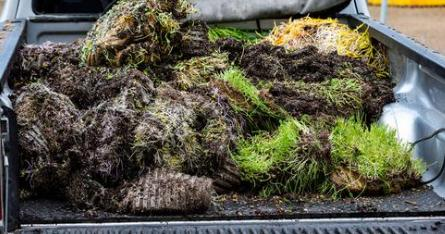organic: (214, 67, 287, 128), (140, 94, 197, 154), (168, 51, 233, 88), (319, 77, 369, 114), (152, 8, 185, 55), (361, 30, 391, 76), (241, 196, 304, 215), (329, 170, 365, 201), (206, 25, 264, 44), (120, 44, 154, 69), (209, 89, 232, 125), (101, 154, 125, 183), (34, 82, 64, 102), (90, 95, 118, 115), (80, 36, 98, 65), (20, 158, 37, 183), (209, 193, 228, 210), (131, 29, 152, 42), (423, 159, 439, 171)
